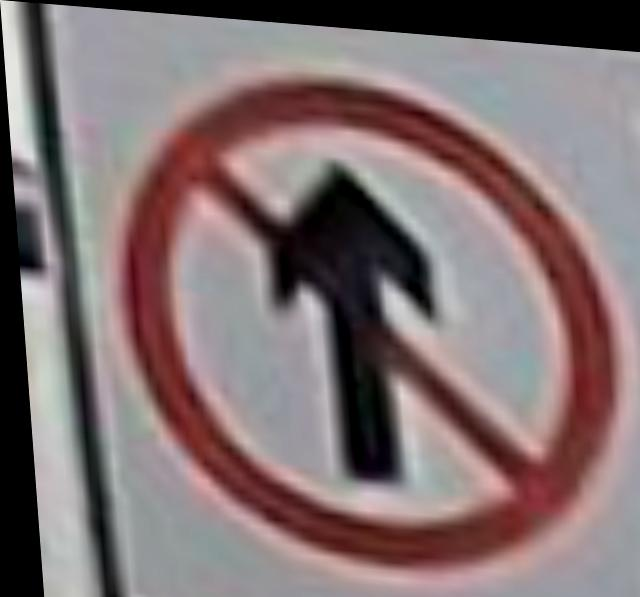not_go_straight: (108, 39, 635, 583)
